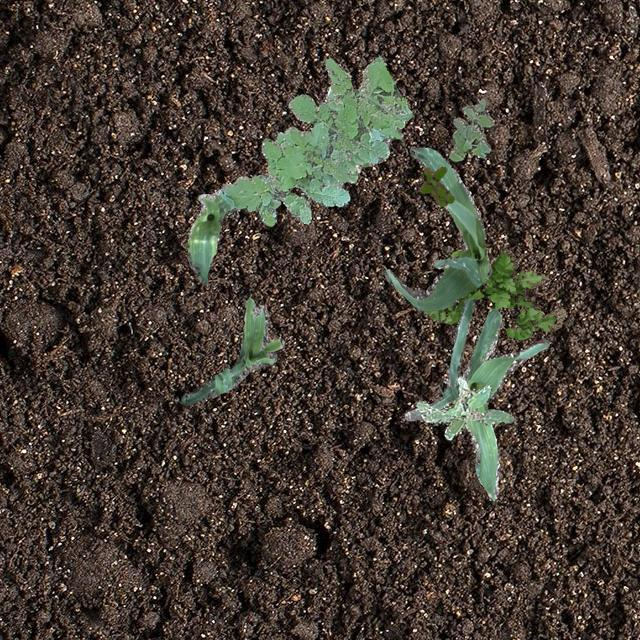crop: (403, 296, 548, 499), (384, 146, 491, 310), (178, 296, 284, 404), (186, 172, 270, 284), (318, 86, 374, 186)
weed: (218, 54, 410, 224), (422, 248, 564, 338), (416, 376, 514, 438), (448, 98, 494, 160), (418, 166, 454, 206), (274, 130, 282, 144)
